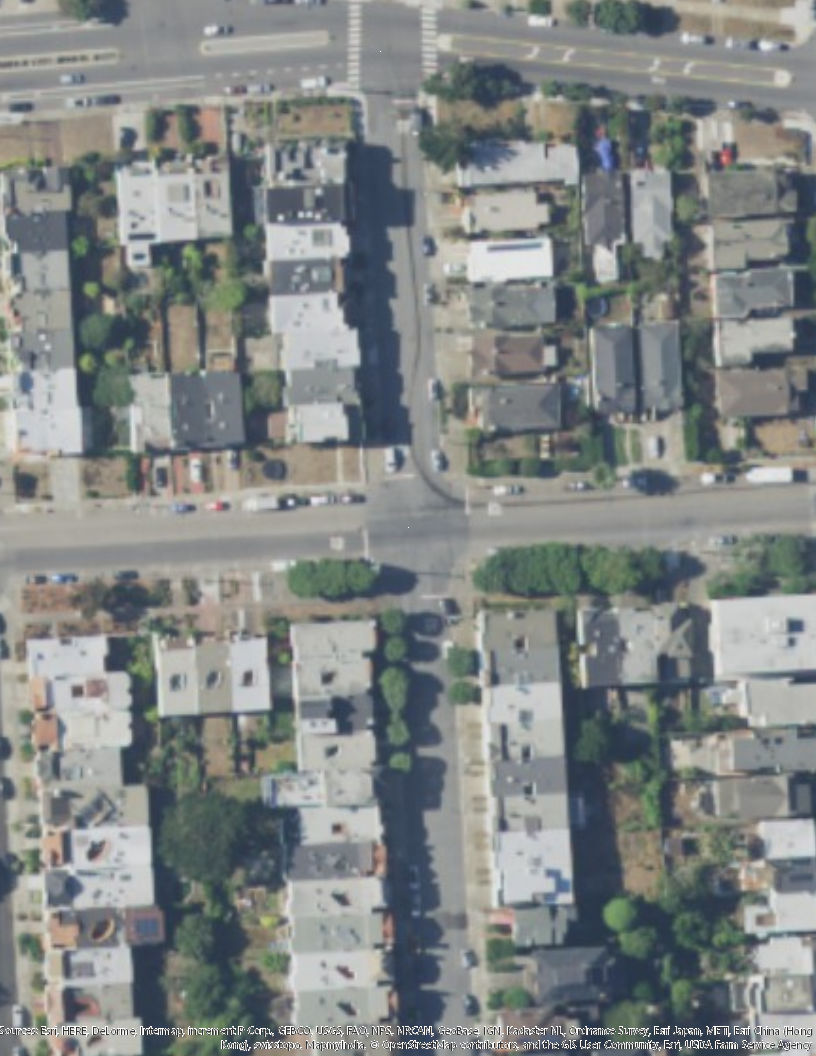zebracross: (420, 8, 439, 75), (347, 2, 361, 85)
